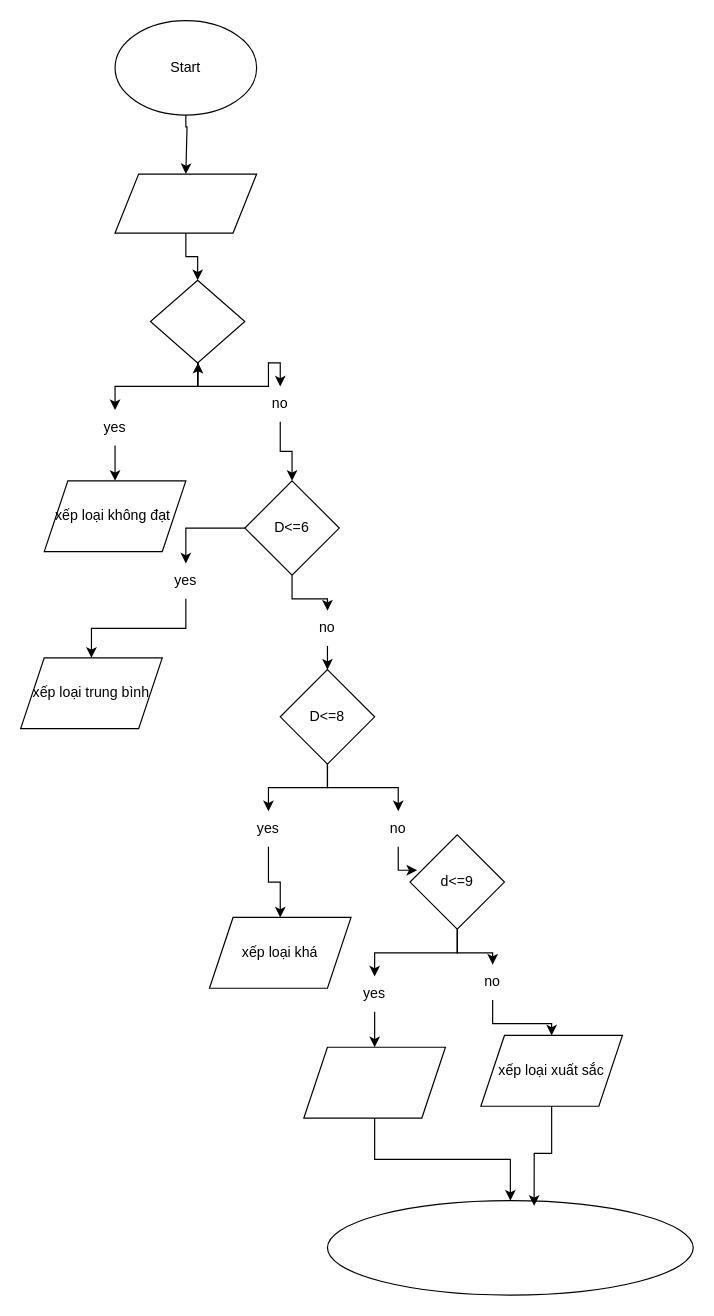
Image size: 714x1316. Some labels were removed from this diagram. Each missing label, with the centre of its shape:
"D>=4" goes at pixel 197 321.
"End" goes at pixel 509 1247.
"nhập điểm D" goes at pixel 185 203.
"xếp loại giỏi" goes at pixel 374 1082.
